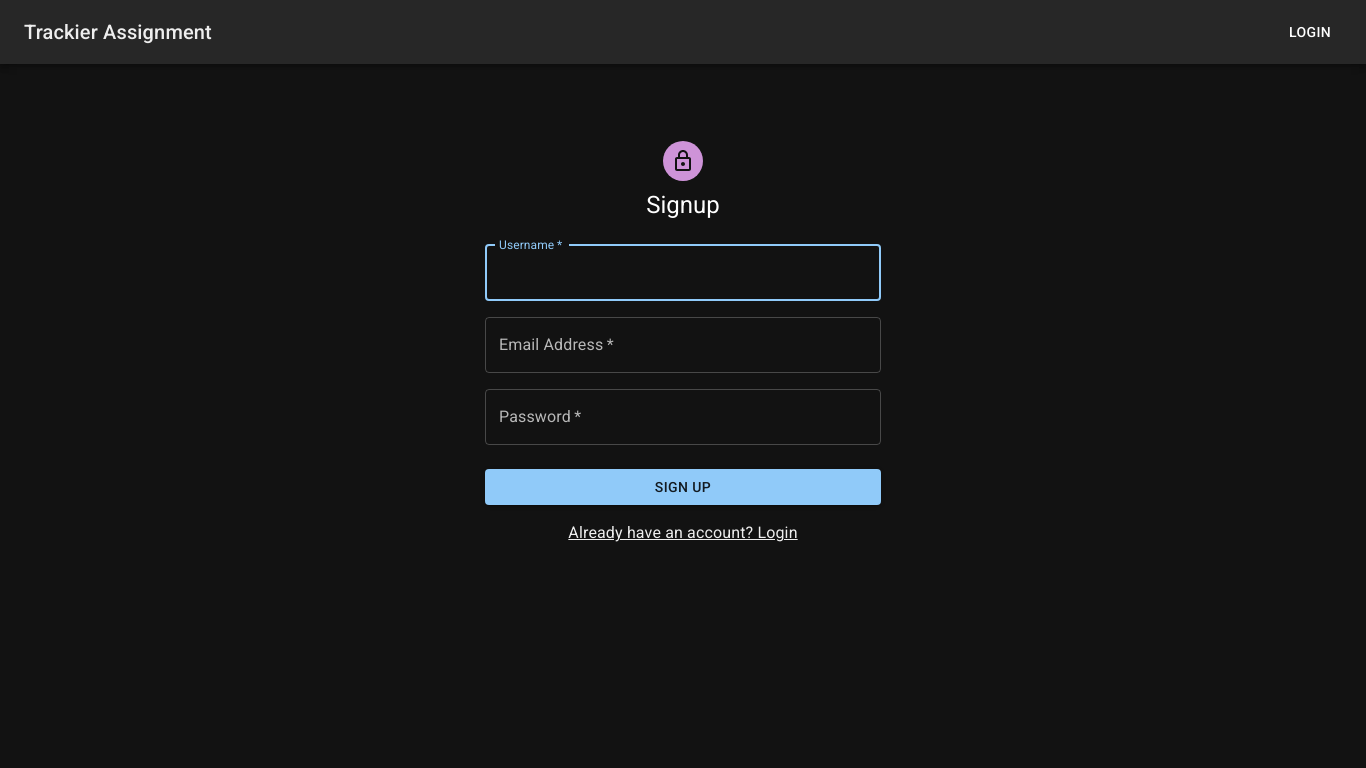
Register User › Successful Registration
This screenshot has width=1366, height=768.
Expected: the button "LOGIN" is shown, [1278,14,1342,50]
In the field with id "username": (683, 273) [485,245,881,301], type "tester"
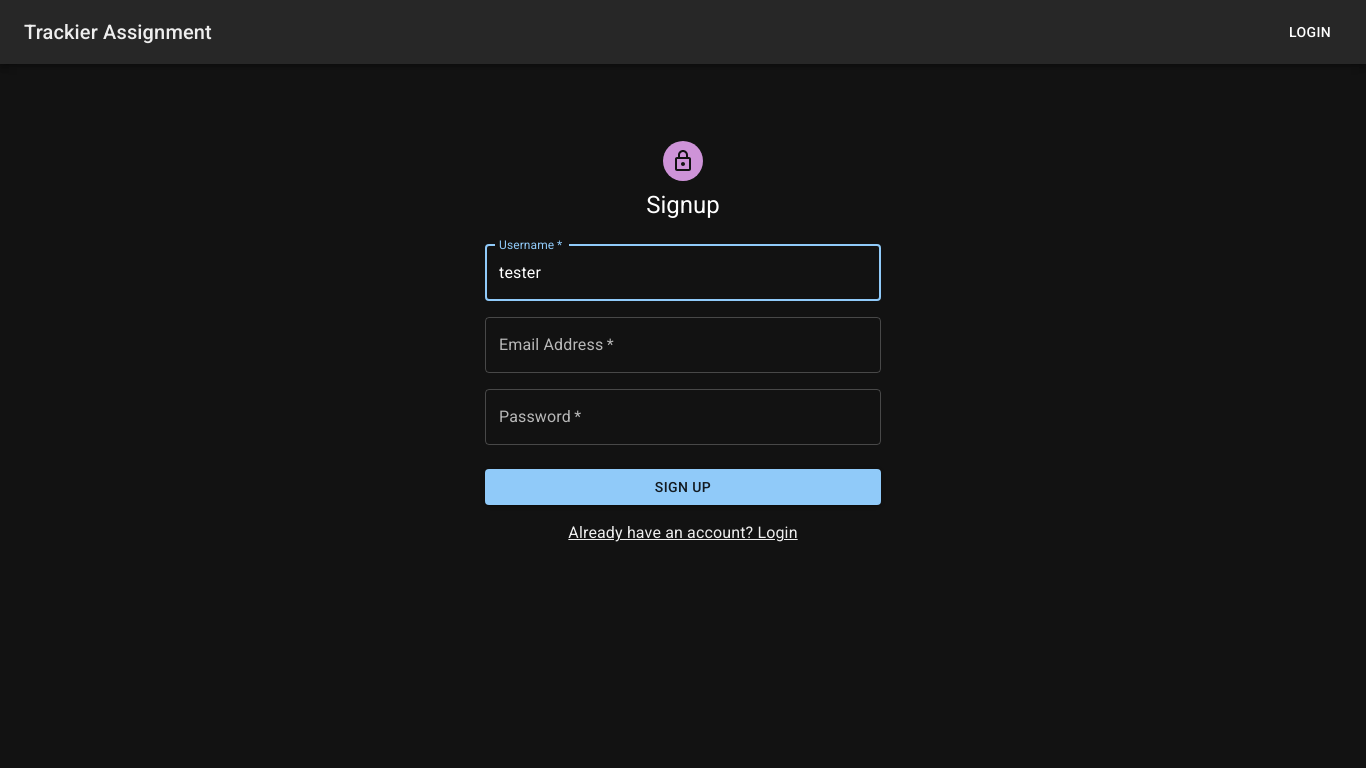
In the field with id "email": (683, 345) [485,317,881,373], type "tester@gmail.com"
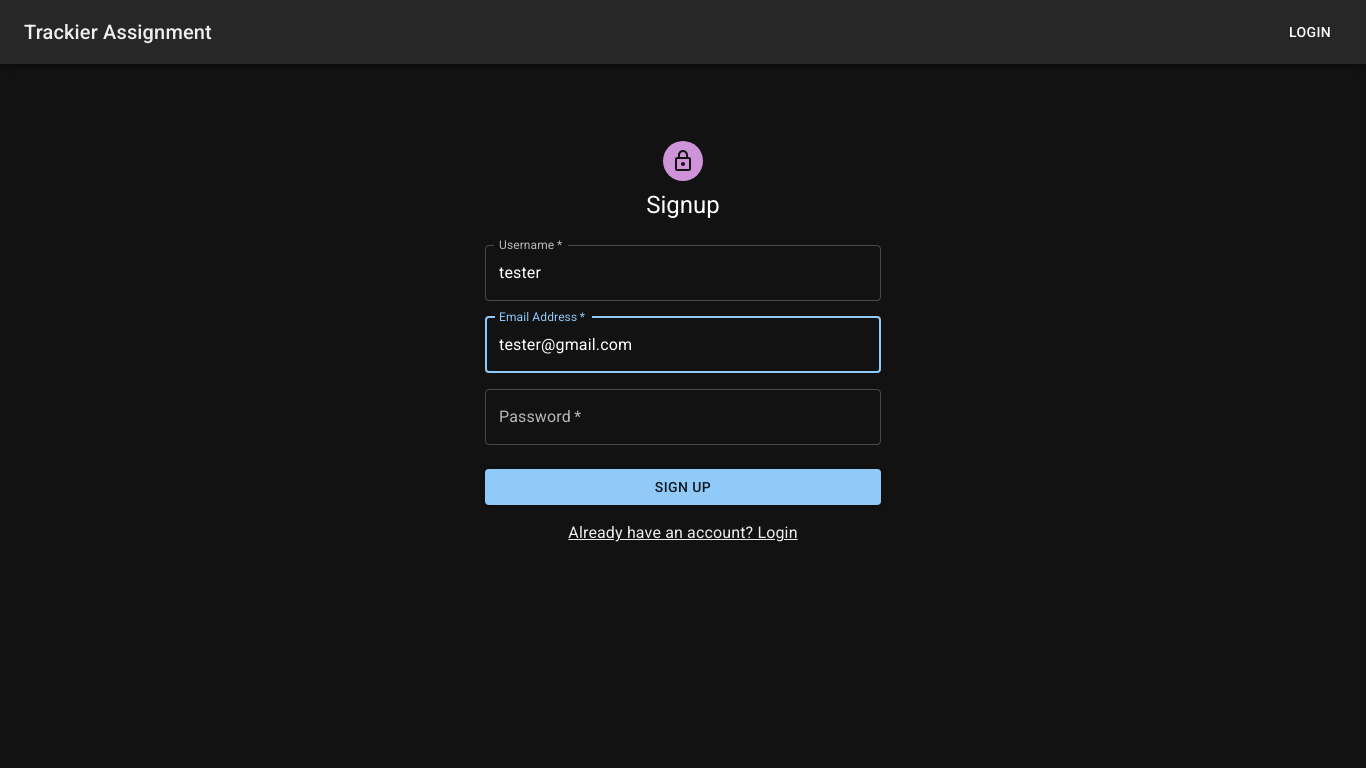
In the password field labelled "Password *": (683, 417) [485,389,881,445], type "Tester@321"
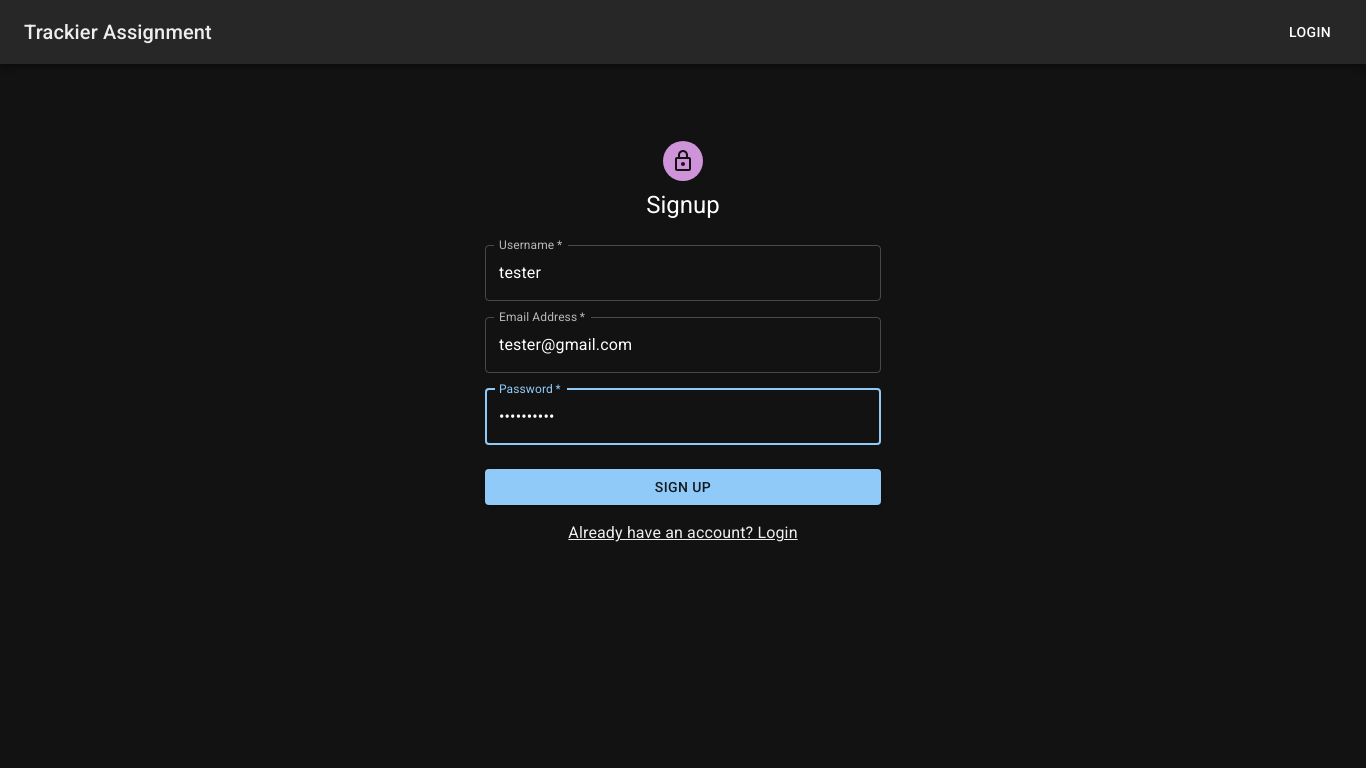
Click the button "Sign Up": (683, 488) [485,469,881,506]
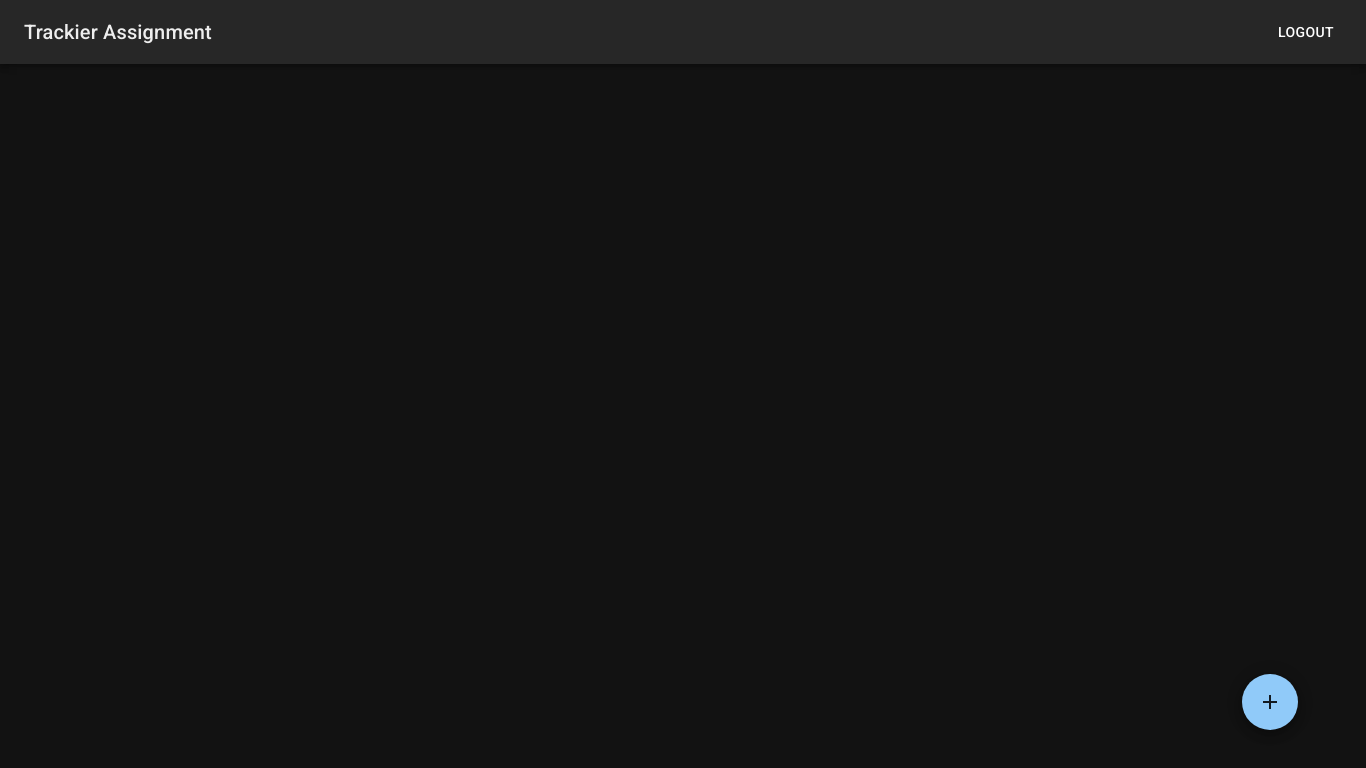
Now the button "LOGOUT" is shown, box [1270,14,1342,50]
